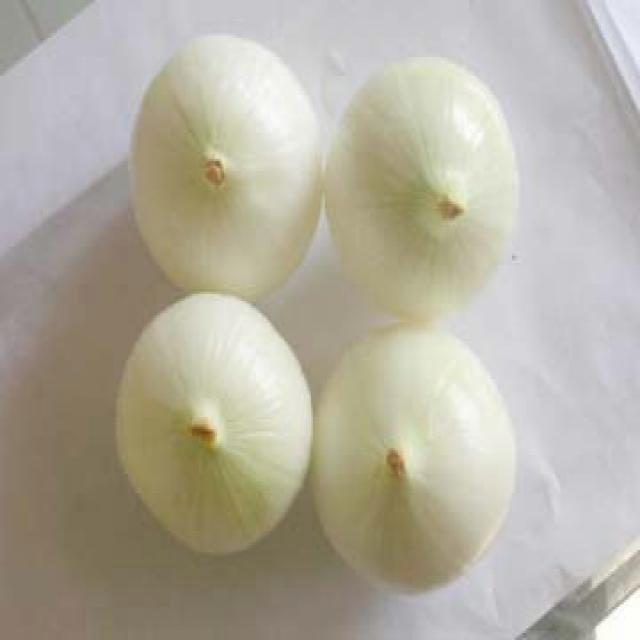onion: (112, 288, 315, 574), (320, 313, 517, 603), (124, 34, 323, 306), (328, 42, 518, 324)
